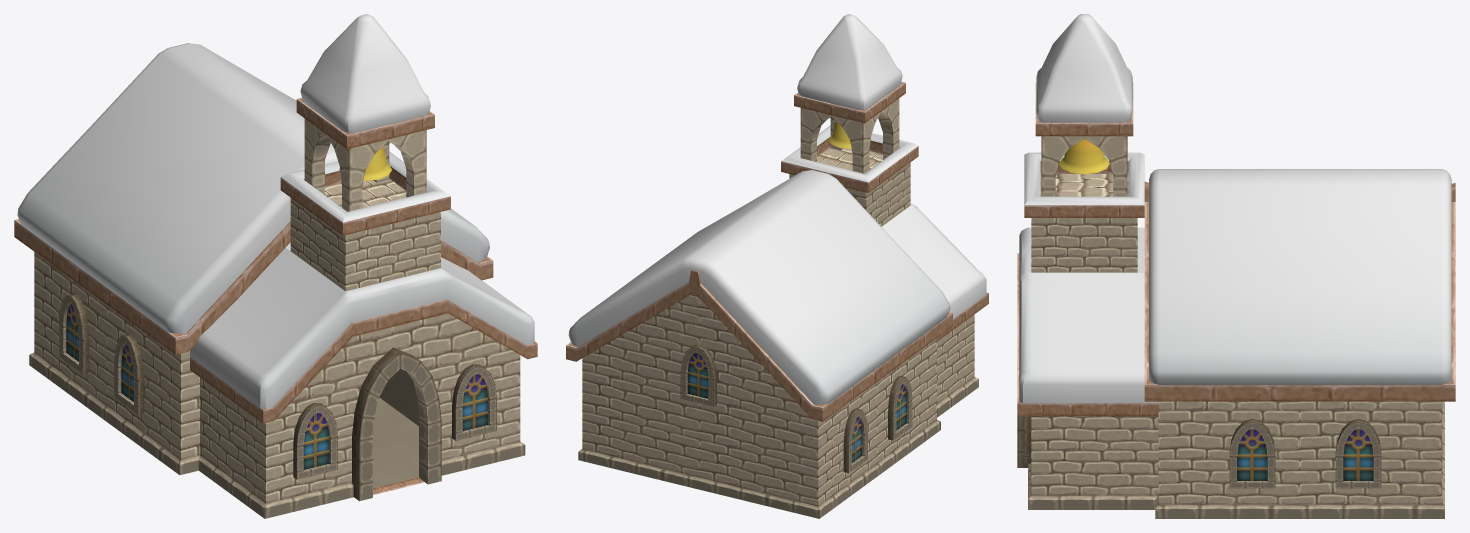
The model's file is Church - Snow.fbx.
3 views of the same model, side by side, from view 1: azimuth 30°, elevation 25°; view 2: azimuth 150°, elevation 25°; view 3: azimuth 270°, elevation 25° (orthographic). The views are drawn at different scales.
Parts seen in each view (by area): view 1: Church_snow; view 2: Church_snow; view 3: Church_snow.
Part boxes in pixels (x1,y1,x2,y2): Church_snow: (14,14,537,518); Church_snow: (566,14,988,518); Church_snow: (1017,14,1455,518).
Bounding box in the file's own units: 5.1 × 6.77 × 6.2.
